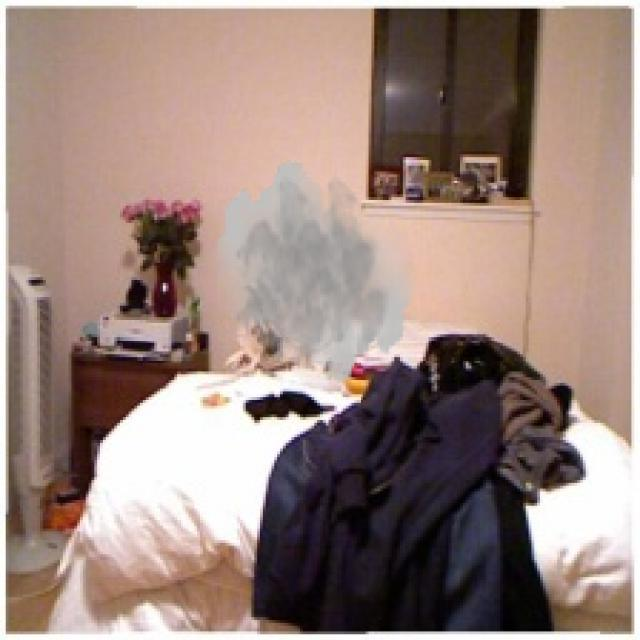Smoke: (212, 157, 418, 386)
